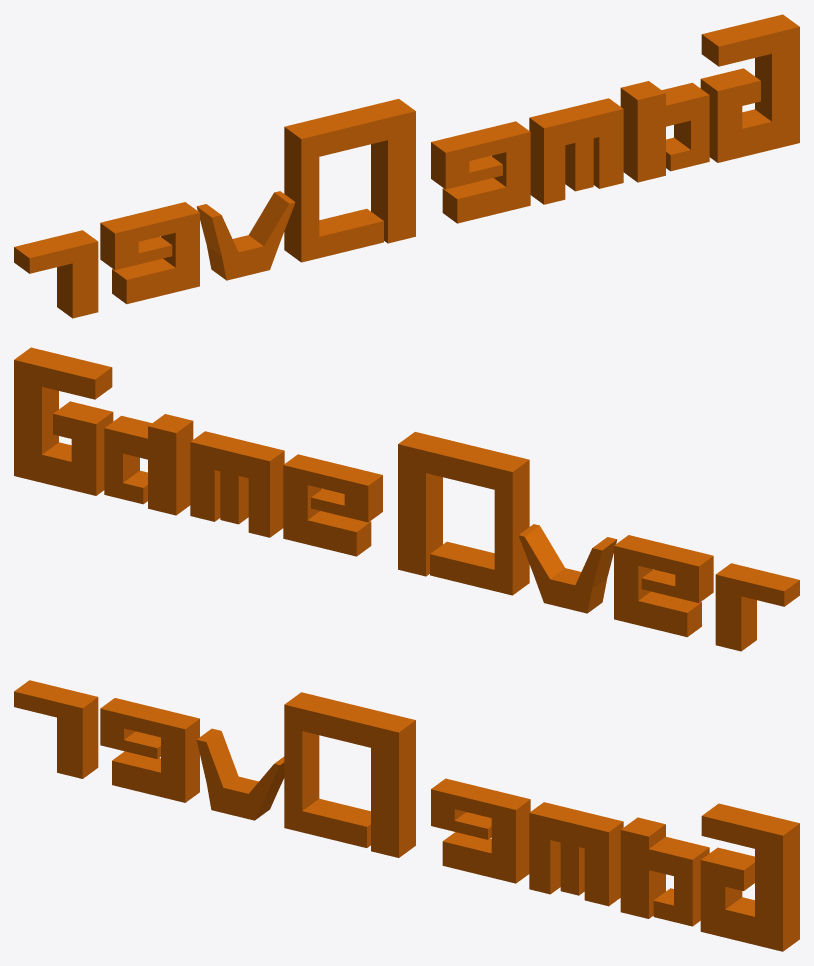
File: game over.dae
The picture shows the model from 3 angles, top to bottom: view 1: azimuth 30°, elevation 25°; view 2: azimuth 150°, elevation 25°; view 3: azimuth 330°, elevation 25°; orthographic projection.
Visible parts, largest first — view 1: pCube1; view 2: pCube1; view 3: pCube1.
Boxes of the visible parts, bbox=[...] form: pCube1: bbox=[14, 14, 799, 318]; pCube1: bbox=[14, 347, 799, 651]; pCube1: bbox=[14, 680, 799, 951].
Bounding box in the file's own units: 56.35 × 2.16 × 8.82.
